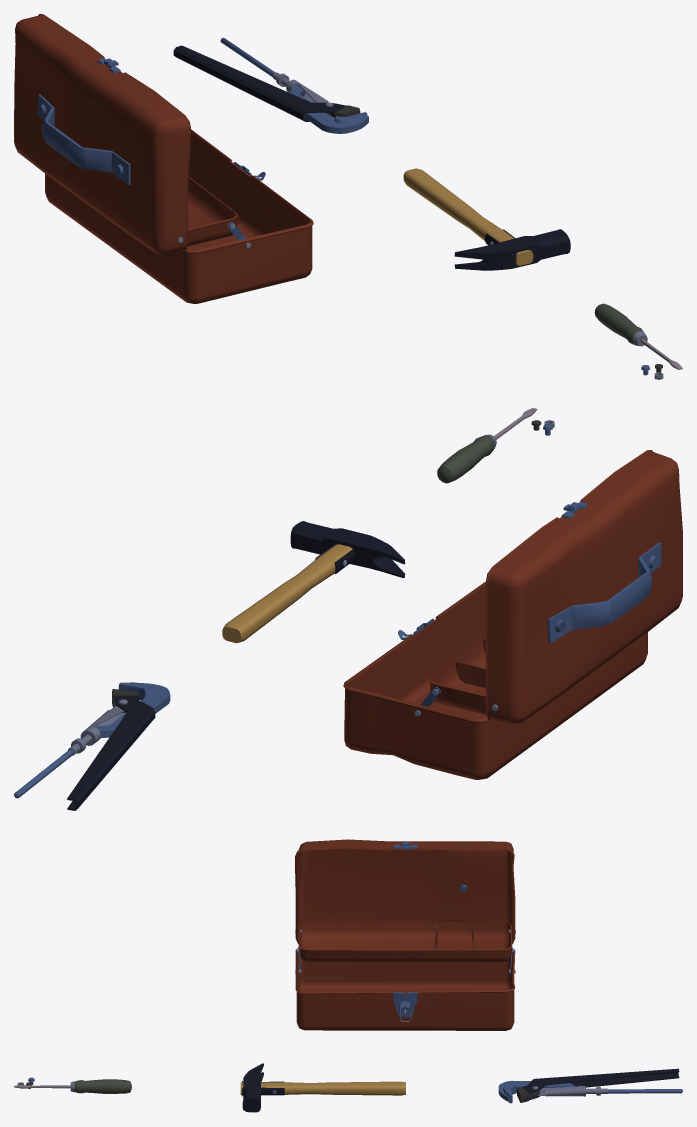
Rendered from toolbox_lp3.fbx.
The picture shows the model from 3 angles, top to bottom: view 1: azimuth 30°, elevation 25°; view 2: azimuth 150°, elevation 25°; view 3: azimuth 270°, elevation 25°; orthographic projection. The views are drawn at different scales.
Parts seen in each view (by area): view 1: kryshka_lp, dno_lp, Cube.008, Cube, Cube.004, ruchka_lp, Cube.047, Cube.005, rukoyat_lp; view 2: kryshka_lp, dno_lp, Cube.004, ruchka_lp, Cube, Cube.008, Cube.047, rukoyat_lp, Cube.005, Cube.048; view 3: kryshka_lp, dno_lp, Cube.047, Cube.004, Cube.008, Cube, rukoyat_lp, Cube.005, Cube.046, Cube.009.
Boxes of the visible parts, box(x1,y1,x2,y2) form: kryshka_lp: box(14, 14, 191, 254); dno_lp: box(45, 129, 313, 303); Cube.008: box(173, 45, 346, 121); Cube: box(454, 229, 570, 270); Cube.004: box(403, 168, 533, 265); ruchka_lp: box(37, 94, 130, 184); Cube.047: box(187, 176, 237, 246); Cube.005: box(289, 84, 368, 133); rukoyat_lp: box(594, 303, 643, 344); kryshka_lp: box(485, 450, 682, 723); dno_lp: box(343, 581, 647, 779); Cube.004: box(222, 544, 352, 643); ruchka_lp: box(547, 542, 661, 643); Cube: box(290, 521, 405, 577); Cube.008: box(67, 696, 155, 810); Cube.047: box(429, 635, 486, 714); rukoyat_lp: box(437, 436, 494, 483); Cube.005: box(95, 682, 170, 737); Cube.048: box(456, 638, 485, 687); kryshka_lp: box(295, 839, 515, 943); dno_lp: box(295, 948, 515, 1030); Cube.047: box(298, 921, 512, 962); Cube.004: box(240, 1081, 405, 1095); Cube.008: box(522, 1068, 679, 1100); Cube: box(242, 1063, 263, 1112); rukoyat_lp: box(75, 1079, 131, 1093); Cube.005: box(498, 1080, 575, 1103); Cube.046: box(393, 992, 417, 1017); Cube.009: box(537, 1086, 585, 1096).
Size of the model in its own units: 942 by 447 by 1872.
